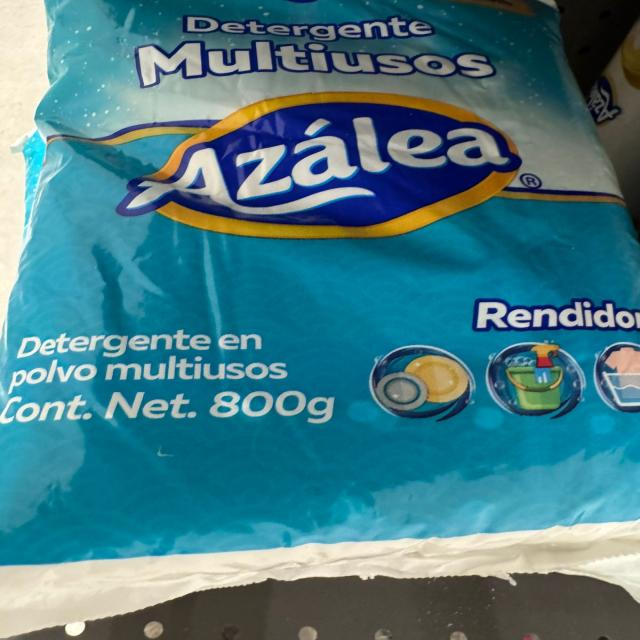DETERGENTE AZALEA MULTIUSOS 800G: (10, 6, 640, 640)
